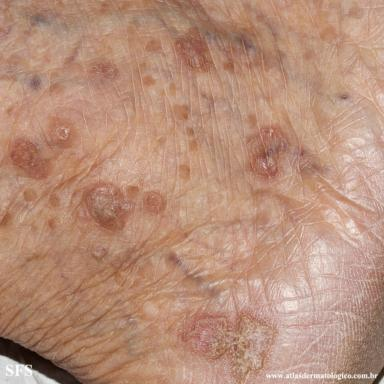Porokeratosis: (186, 316, 274, 380), (85, 183, 131, 229), (248, 127, 289, 178), (11, 139, 49, 179), (175, 36, 213, 70), (143, 190, 167, 213), (52, 123, 71, 141)
